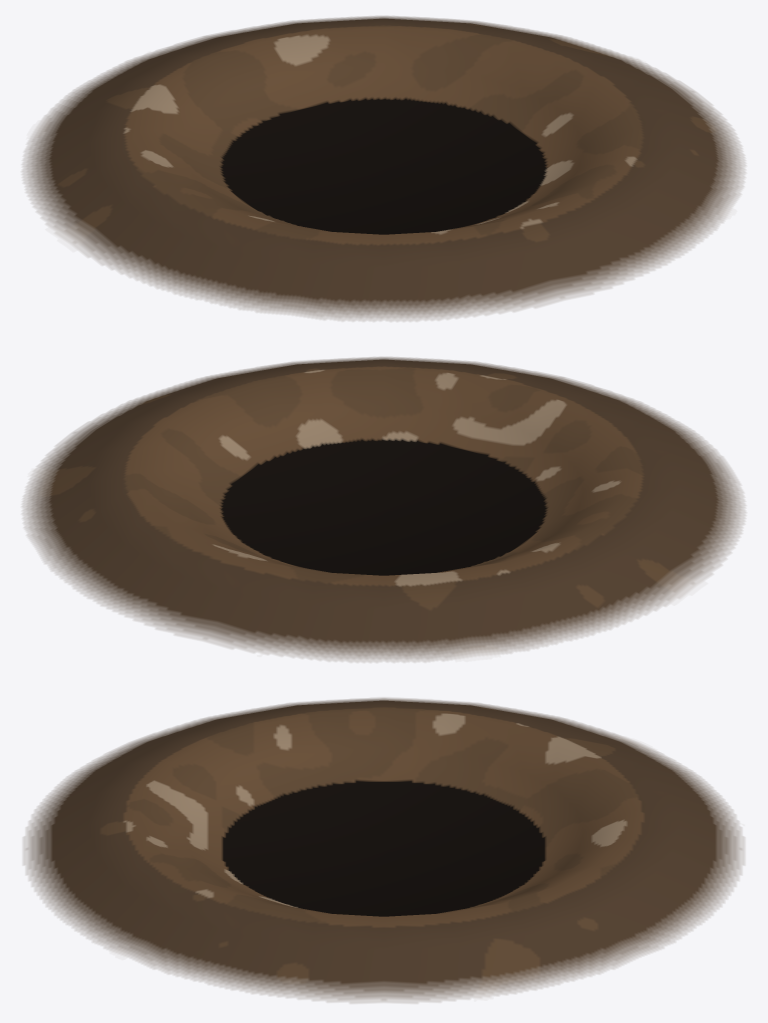
File: buraco_toca.glb
The picture shows the model from 3 angles, top to bottom: view 1: azimuth 30°, elevation 25°; view 2: azimuth 150°, elevation 25°; view 3: azimuth 270°, elevation 25°; orthographic projection.
Parts seen in each view (by area): view 1: buraco_toca; view 2: buraco_toca; view 3: buraco_toca.
Part boxes in pixels (x1=…): buraco_toca: x1=22, y1=16, x2=745, y2=320; buraco_toca: x1=22, y1=357, x2=745, y2=661; buraco_toca: x1=24, y1=698, x2=743, y2=1002.
Bounding box in the file's own units: 1 × 0.058 × 1.
1 material, 1 textured.
